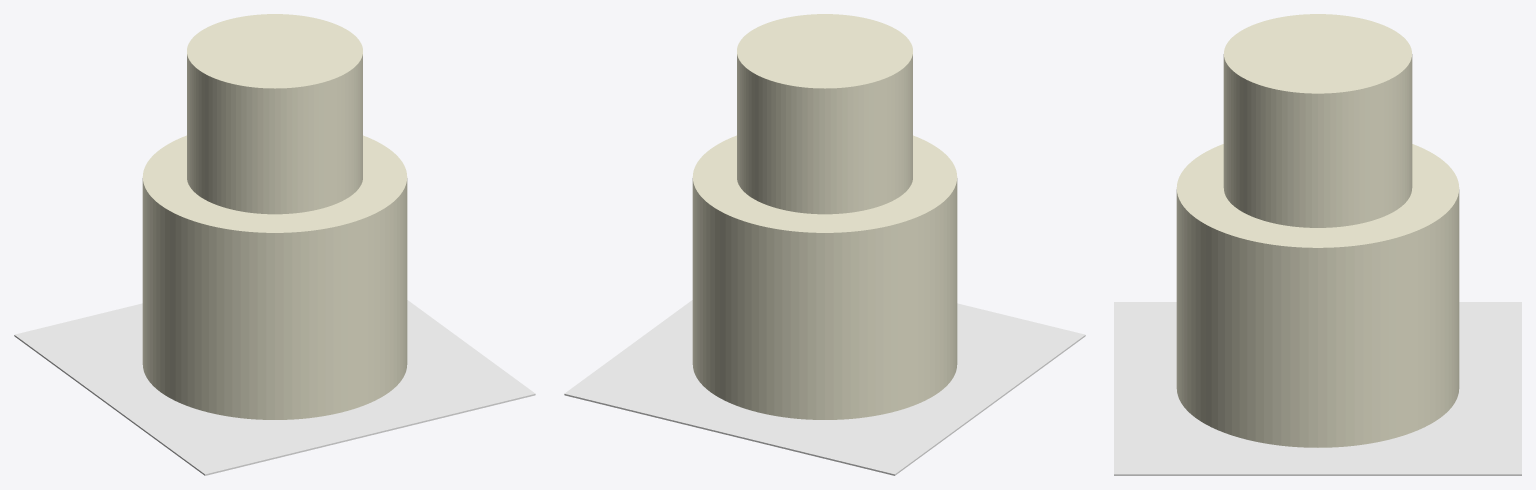
The model's file is cake_tier2_6-4_layers3_v26.glb.
3 renders of one model, left to right at view 1: azimuth 30°, elevation 25°; view 2: azimuth 150°, elevation 25°; view 3: azimuth 270°, elevation 25°, orthographic. The views are drawn at different scales.
Visible parts, largest first — view 1: Tier0, Tier1, Board; view 2: Tier0, Tier1, Board; view 3: Tier0, Tier1, Board.
Part boxes in pixels (bbox=[...]): Tier0: bbox=[142, 135, 407, 419]; Tier1: bbox=[187, 14, 362, 214]; Board: bbox=[14, 300, 535, 475]; Tier0: bbox=[692, 135, 957, 419]; Tier1: bbox=[737, 14, 912, 214]; Board: bbox=[564, 300, 1085, 475]; Tier0: bbox=[1176, 144, 1459, 447]; Tier1: bbox=[1223, 14, 1412, 227]; Board: bbox=[1114, 302, 1521, 475].
Bounding box in the file's own units: 0.22 × 0.2 × 0.22.
